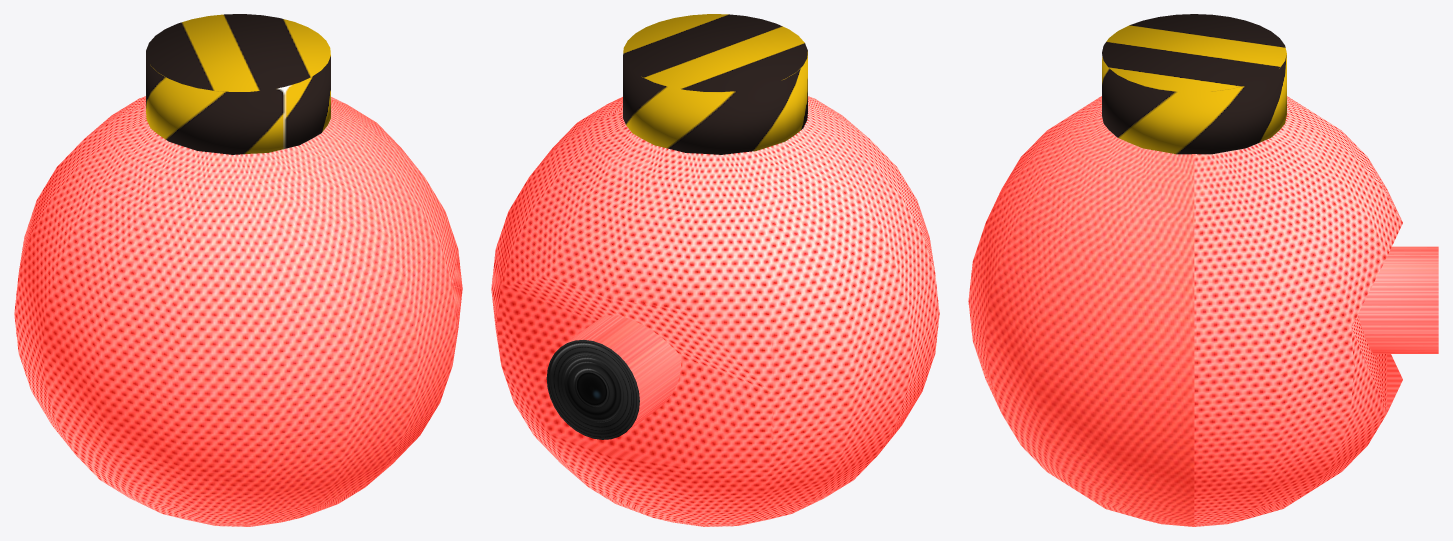
File: bossdroneb.gltf
3 views of the same model, side by side, from view 1: azimuth 30°, elevation 25°; view 2: azimuth 150°, elevation 25°; view 3: azimuth 270°, elevation 25° (orthographic).
Visible parts, largest first — view 1: body, engine; view 2: body, engine, camera; view 3: body, engine, camera.
Boxes of the visible parts, x1=… form: body: x1=14, y1=96, x2=462, y2=526; engine: x1=146, y1=14, x2=330, y2=154; body: x1=491, y1=96, x2=939, y2=526; engine: x1=623, y1=14, x2=807, y2=154; camera: x1=546, y1=315, x2=681, y2=439; body: x1=968, y1=96, x2=1402, y2=526; engine: x1=1102, y1=14, x2=1286, y2=154; camera: x1=1358, y1=246, x2=1438, y2=353.
Size of the model in its own units: 9.12 by 10.09 by 9.49.
Materials: 3 (3 with a texture image).
